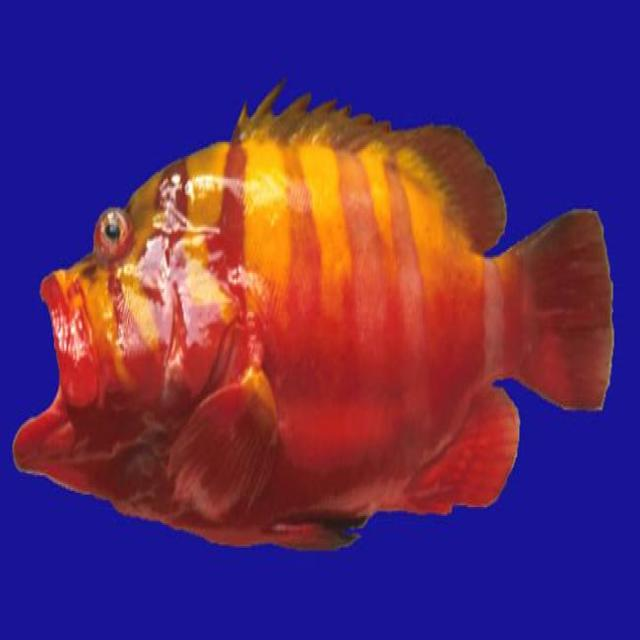ikan: (11, 76, 614, 553)
